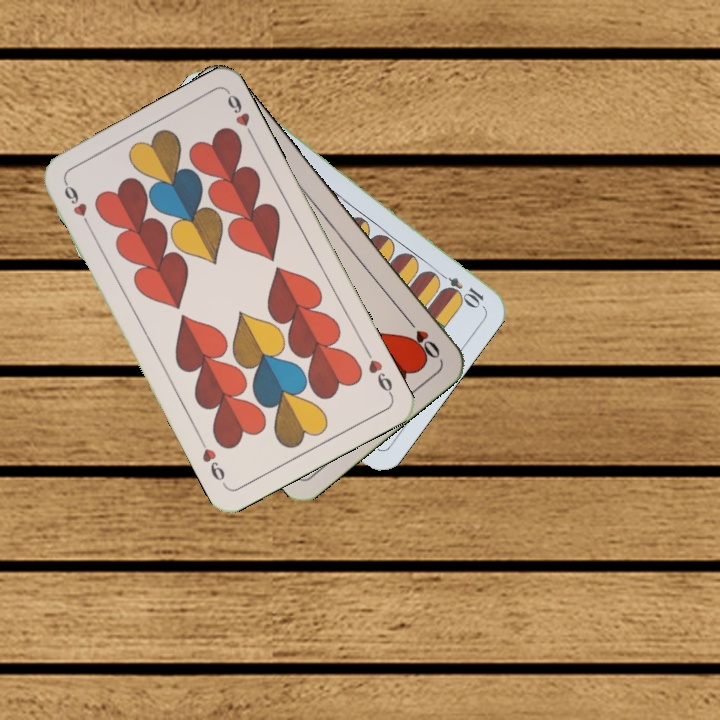E10: (432, 267, 487, 309)
H9: (361, 345, 396, 399), (60, 177, 94, 231)
HO: (401, 312, 443, 362)
